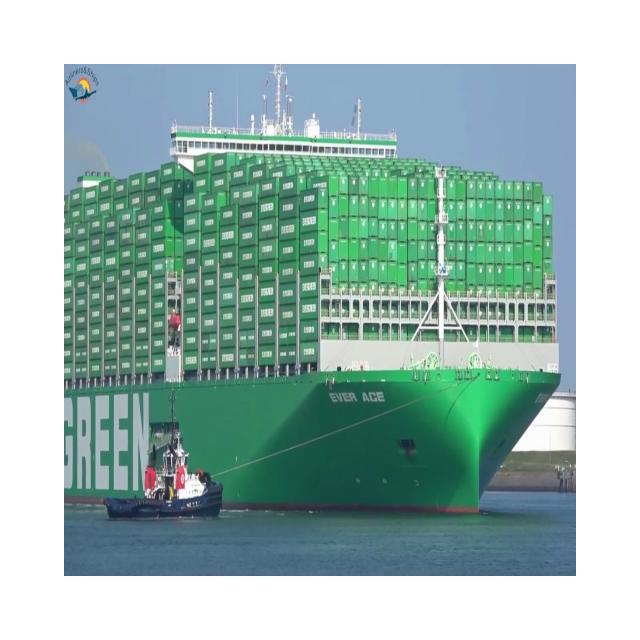OCR: (65, 390, 157, 510), (324, 378, 395, 413)
